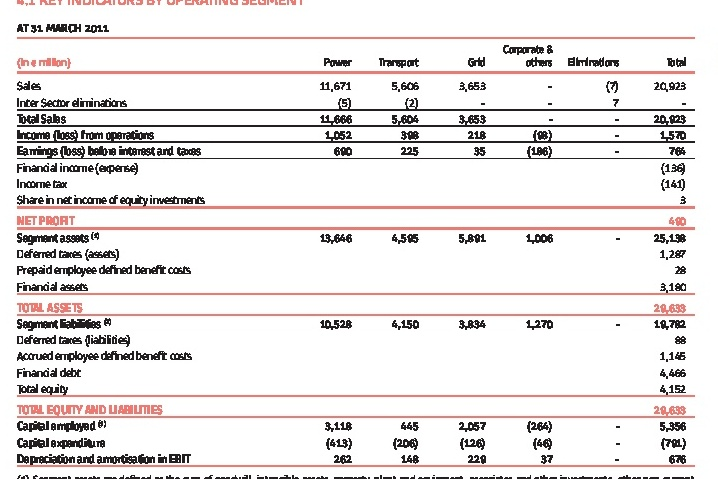table: (0, 0, 718, 479)
